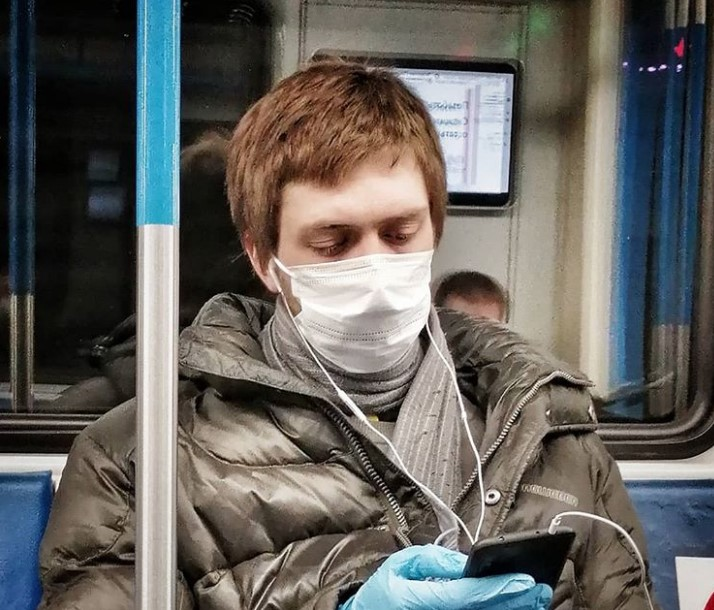face_with_mask: (237, 75, 446, 382)
